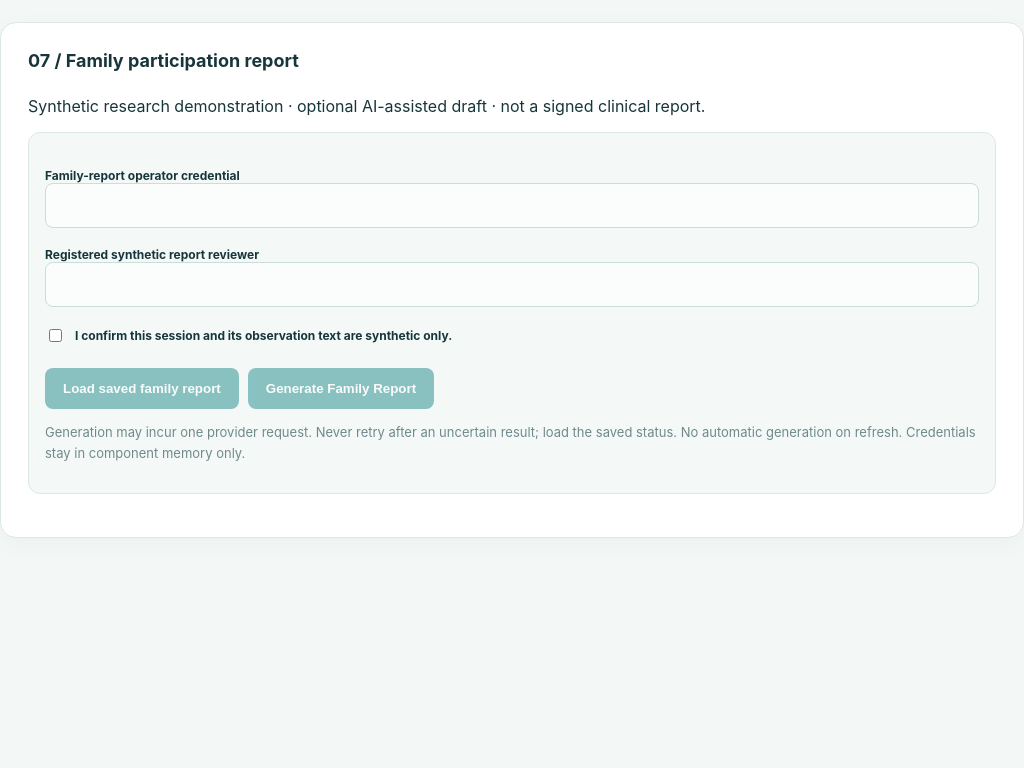
Test case: loads stored/failed results without provider retry and clears on session change
In the password field labelled "Family-report operator credential": (512, 206) [45,183,979,228], type "synthetic-test-operator-secret"
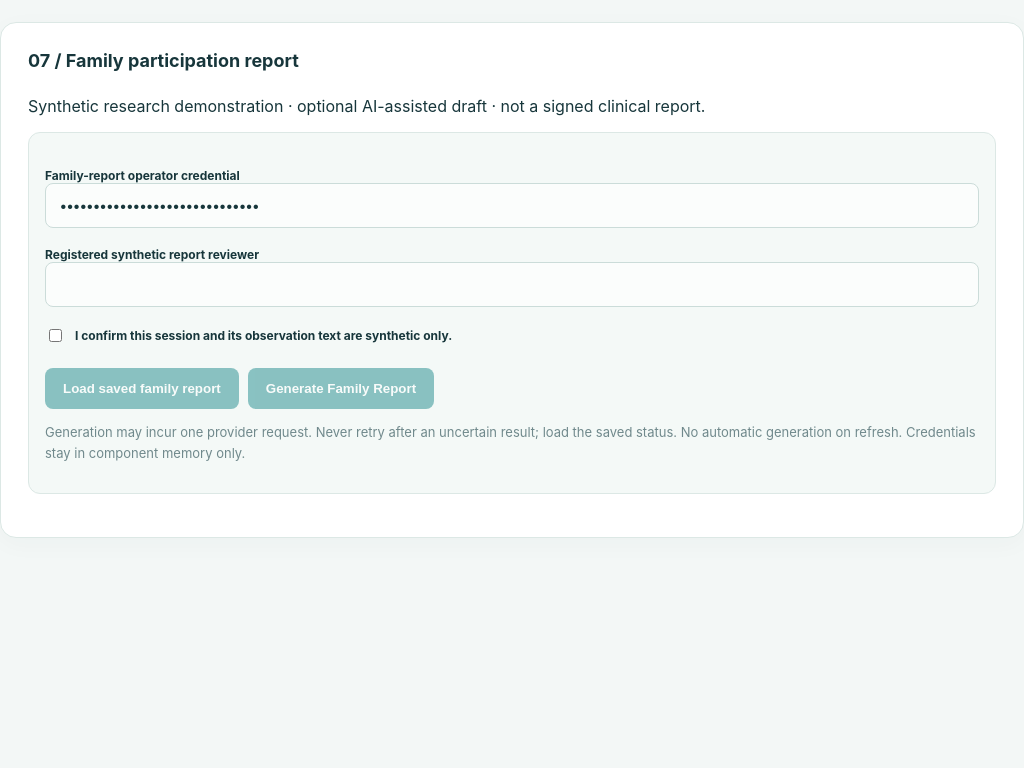
In the field labelled "Registered synthetic report reviewer": (512, 284) [45,262,979,307], type "synthetic-reviewer"
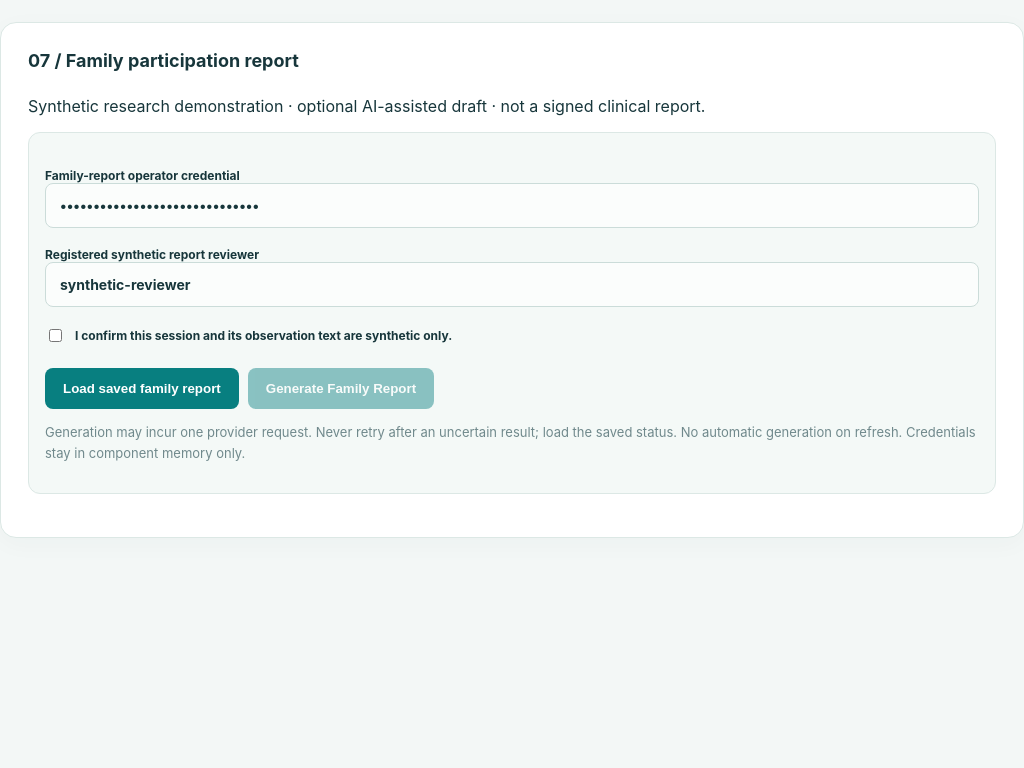
Click the checkbox labelled "I confirm this session": click(56, 336) [49,329,62,342]
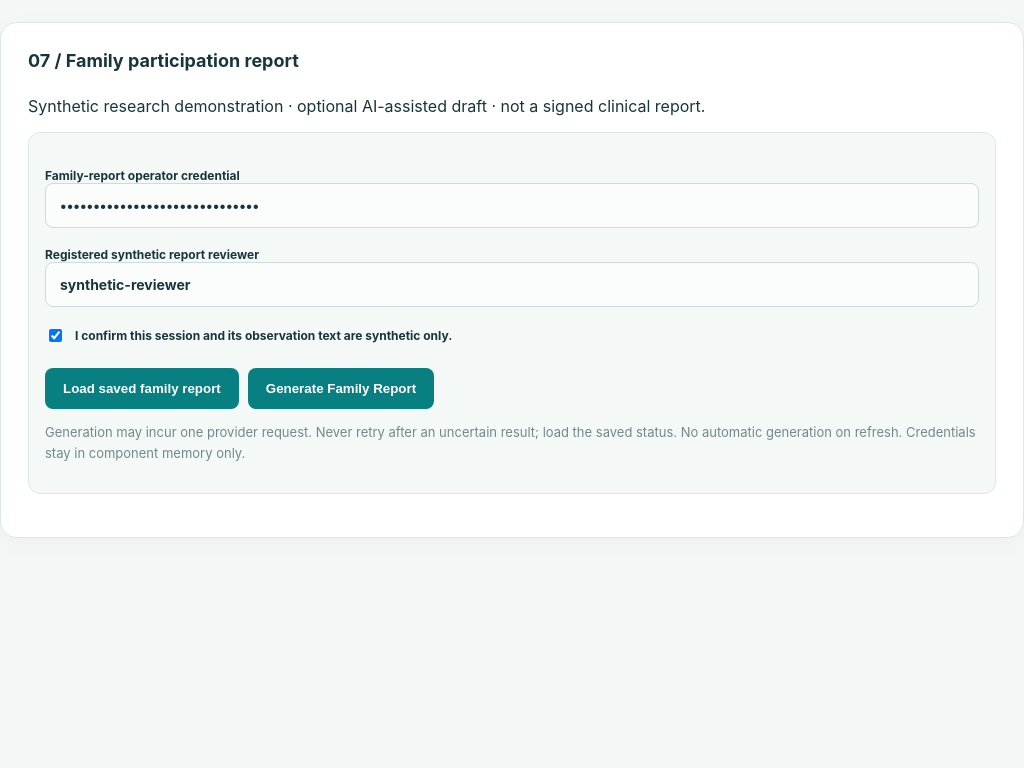
Click the button "Load saved family report": click(142, 389) [45,368,239,409]
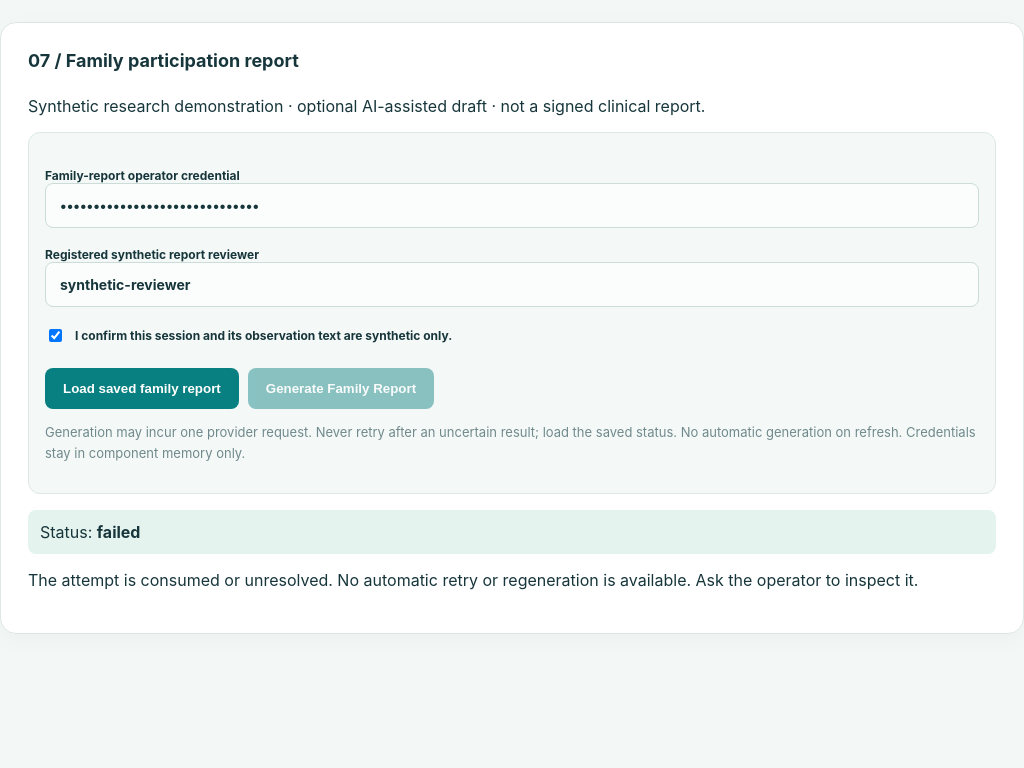
Expected: the message shows "No automatic retry", [28,570,918,590]
